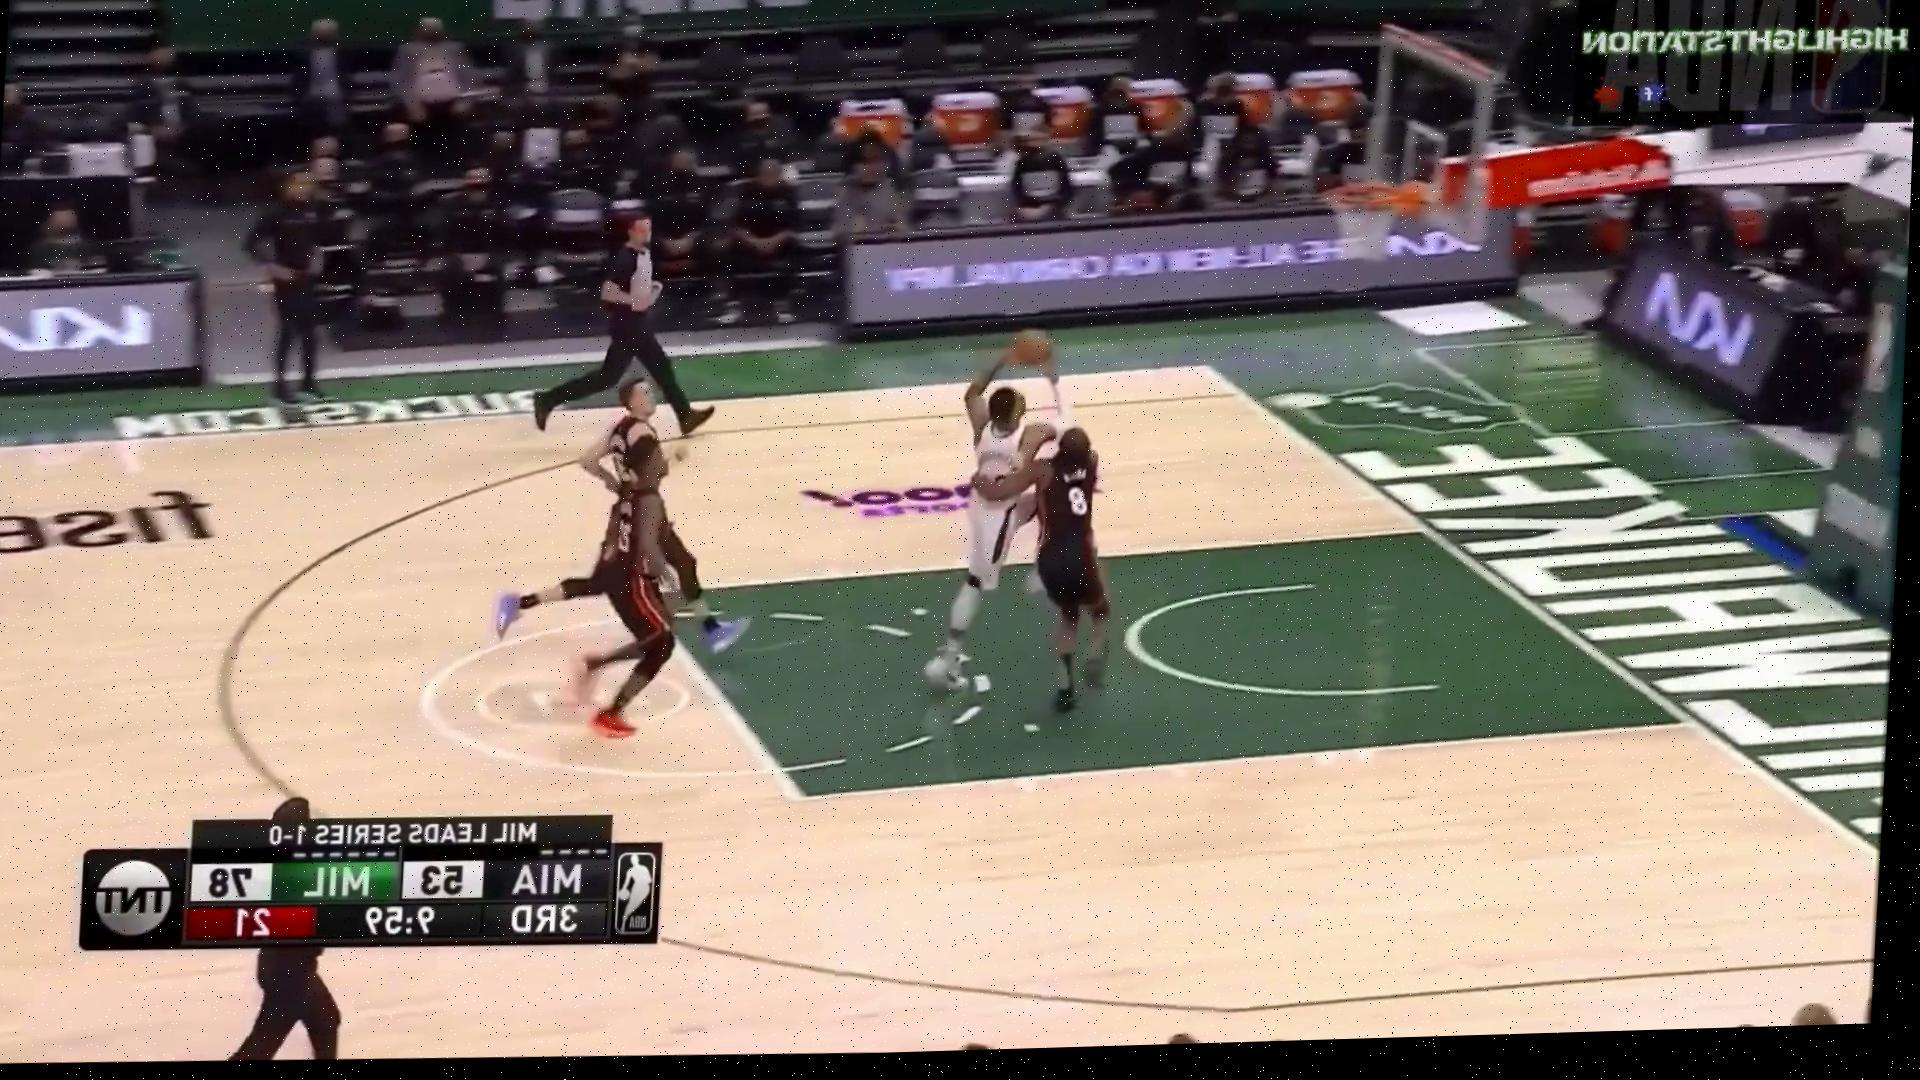foul: (902, 362, 1141, 721)
